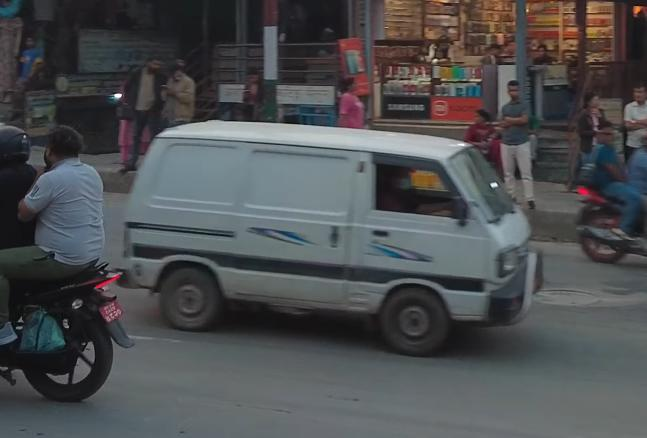bike: (0, 251, 136, 403)
van: (113, 111, 552, 367)
